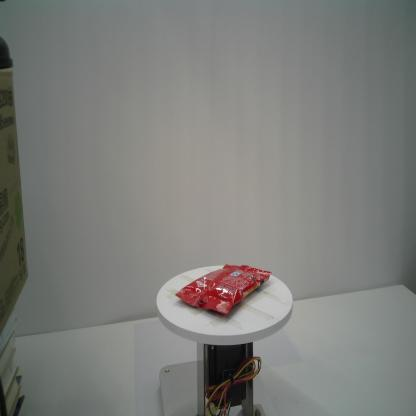Instant Drink: (174, 261, 272, 315)
